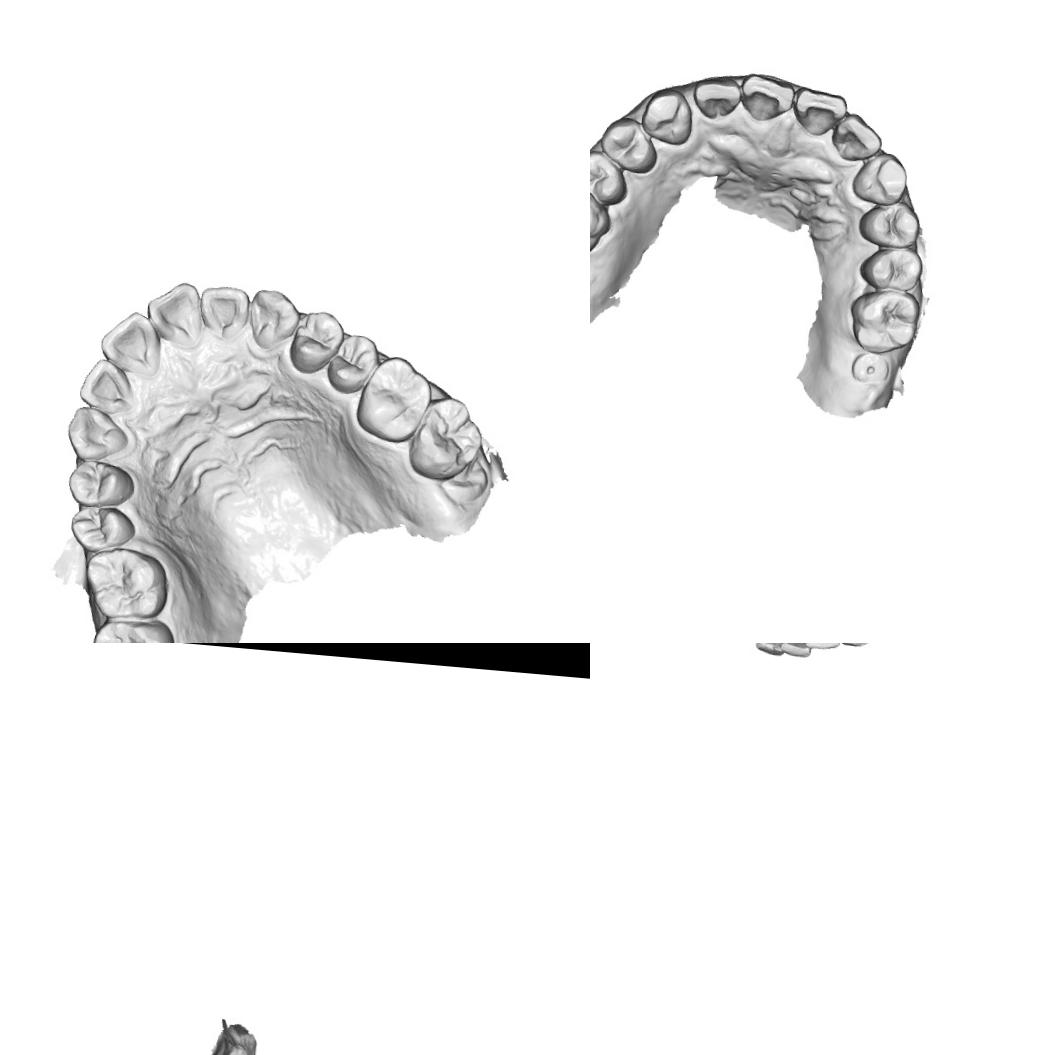canine: (64, 403, 132, 464), (246, 287, 302, 352), (637, 84, 695, 146), (850, 148, 909, 208)
implant: (849, 350, 890, 386)
incisor: (96, 308, 163, 378), (142, 278, 205, 348), (76, 355, 138, 416), (789, 84, 849, 140), (738, 71, 796, 124), (828, 111, 884, 164), (196, 284, 251, 337), (690, 73, 743, 121), (778, 643, 813, 659), (753, 643, 788, 656)
molar: (352, 352, 435, 444), (404, 392, 486, 484), (81, 544, 171, 622), (846, 286, 922, 356), (87, 616, 177, 643), (590, 178, 612, 259)
premolar: (286, 308, 346, 376), (596, 113, 660, 175), (65, 457, 136, 509), (854, 196, 922, 250), (324, 331, 380, 396), (68, 503, 136, 556), (856, 243, 924, 293), (590, 147, 630, 206)
